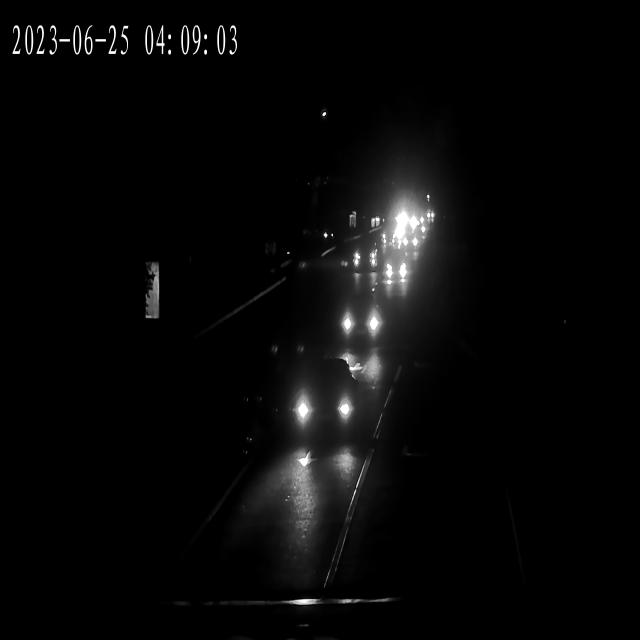Car: (279, 361, 361, 442), (335, 302, 385, 346), (348, 243, 382, 277), (382, 258, 411, 288), (401, 229, 423, 249), (399, 234, 422, 252)
